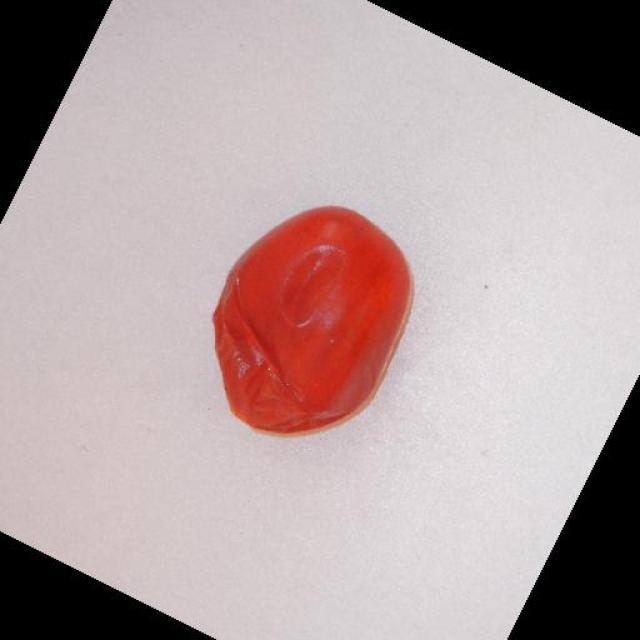Stale_tomato: (206, 259, 406, 443)
